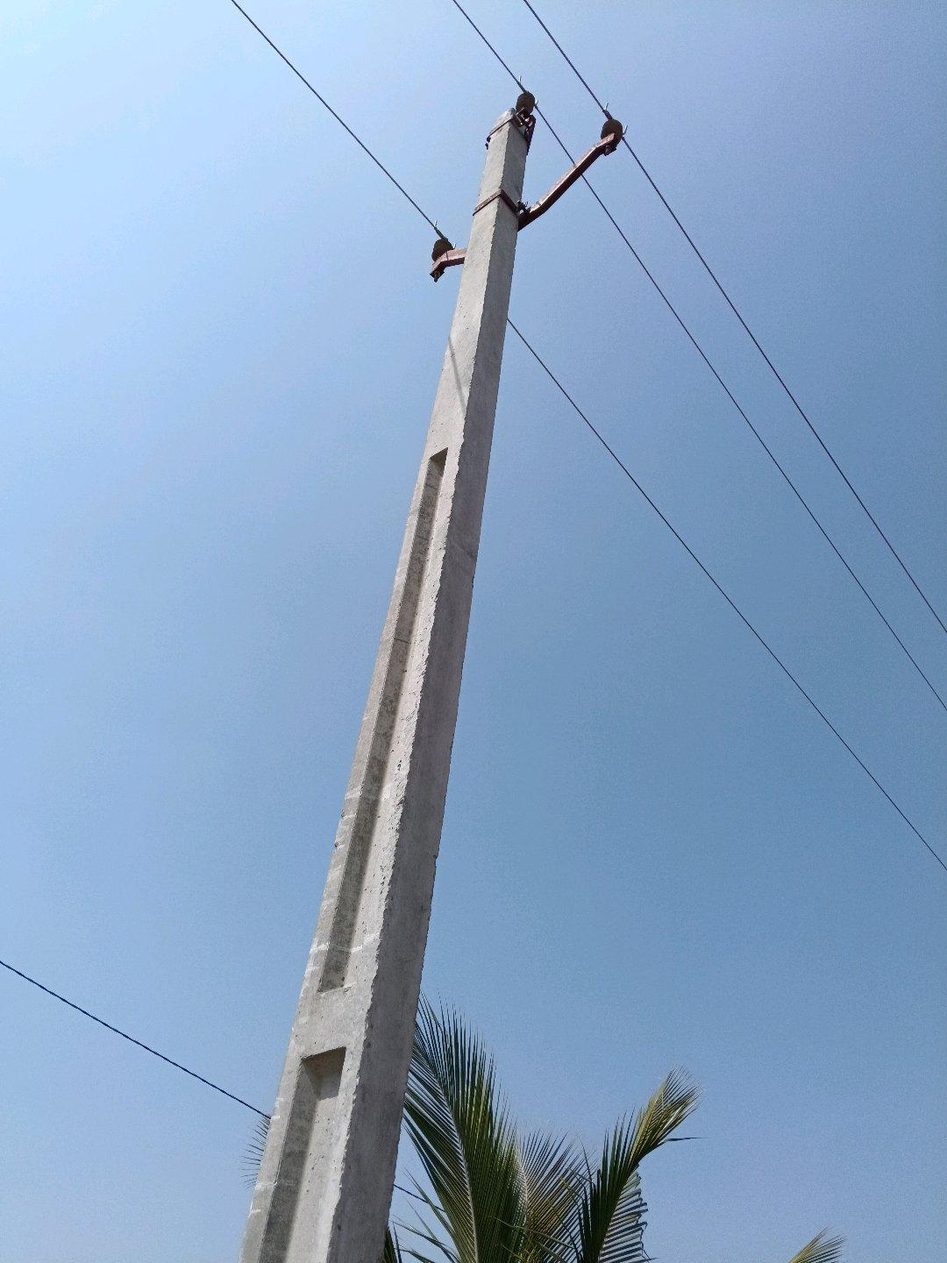{"0" "insulator", "1" "pole", "2" "crossarm", "3" "conductor", "4" "street_: (240, 101, 623, 1262)
